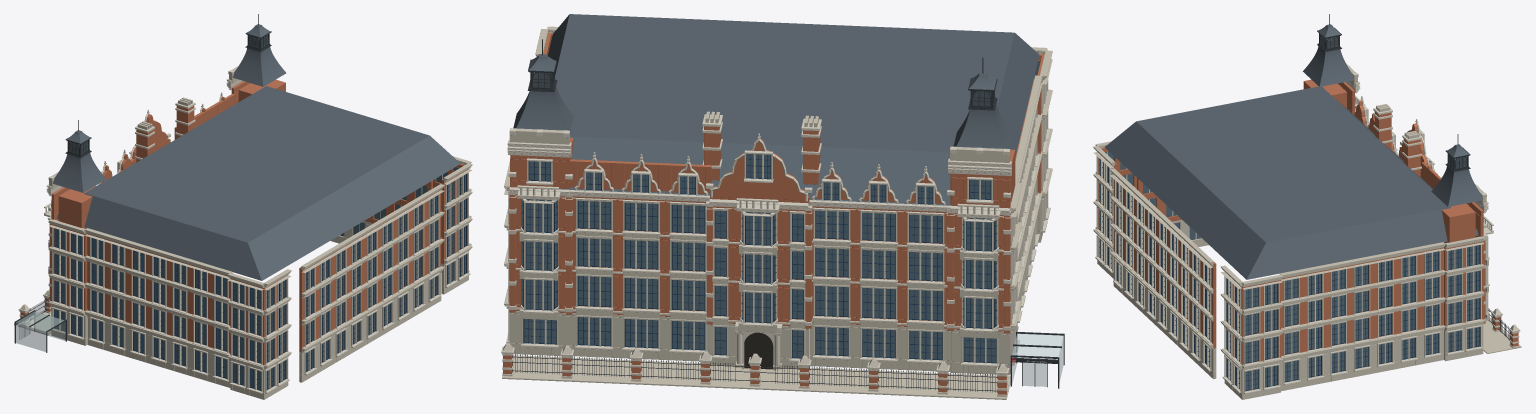
File: sal-exterior-0bf889fc7182.glb
3 renders of one model, left to right at view 1: azimuth 30°, elevation 25°; view 2: azimuth 150°, elevation 25°; view 3: azimuth 270°, elevation 25°, orthographic. The views are drawn at different scales.
Visible parts, largest first — view 1: SAL.001; view 2: SAL.001; view 3: SAL.001.
Boxes of the visible parts, x1,y1,x2,y2 form: SAL.001: (14, 14, 472, 399); SAL.001: (501, 14, 1064, 399); SAL.001: (1093, 14, 1521, 399).
Bounding box in the file's own units: 68.11 × 33.89 × 61.15.
